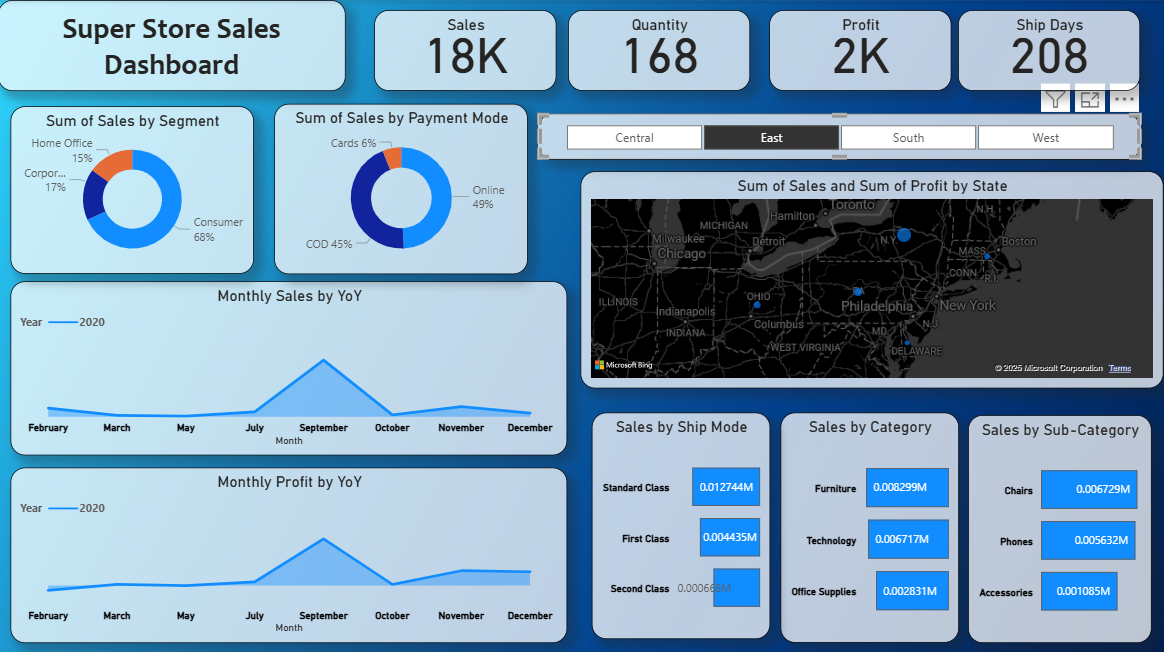

The dashboard page shown, as its layout file describes it:
{"tool":"powerbi","page":{"name":"Page 1","canvas":[1280,720],"ordinal":0},"visuals":[{"type":"clusteredBarChart","title":" Sales by Category","fields":{"Category":["Sheet1.Category"],"Y":["Sum(Sheet1.Sales)"]},"box":[858.6,452.9,195.7,252.9],"z":0},{"type":"clusteredBarChart","title":"Sales by Sub-Category","fields":{"Category":["Sheet1.Sub-Category","Sheet1.Category"],"Y":["Sum(Sheet1.Sales)"]},"box":[1064.3,455.7,201.4,250],"z":1000},{"type":"clusteredBarChart","title":"Sales by Ship Mode","fields":{"Category":["Sheet1.Ship Mode"],"Y":["Sum(Sheet1.Sales)"]},"box":[651.4,452.9,195.7,248.6],"z":2000},{"type":"stackedAreaChart","title":"Monthly Sales by YoY","fields":{"Y":["Sum(Sheet1.Sales)"],"Category":["Sheet1.Order Date.Variation.Date Hierarchy.Month","Sheet1.Order Date.Variation.Date Hierarchy.Day"],"Series":["Sheet1.Order Date.Variation.Date Hierarchy.Year"]},"box":[14.3,308.6,611.4,191.4],"z":3000},{"type":"stackedAreaChart","title":"Monthly Profit by YoY","fields":{"Category":["Sheet1.Order Date.Variation.Date Hierarchy.Month","Sheet1.Order Date.Variation.Date Hierarchy.Day"],"Series":["Sheet1.Order Date.Variation.Date Hierarchy.Year"],"Y":["Sum(Sheet1.Profit)"]},"box":[14.3,512.9,611.4,192.9],"z":4000},{"type":"map","fields":{"Category":["Sheet1.State"],"Size":["Sum(Sheet1.Sales)"]},"box":[640,188.6,640,238.6],"z":5000},{"type":"donutChart","fields":{"Category":["Sheet1.Segment"],"Y":["Sum(Sheet1.Sales)"]},"box":[14.3,117.1,267.1,184.3],"z":6000},{"type":"donutChart","fields":{"Category":["Sheet1.Payment Mode"],"Y":["Sum(Sheet1.Sales)"]},"box":[302.9,114.3,278.6,187.1],"z":7000},{"type":"slicer","fields":{"Values":["Sheet1.Region"]},"box":[592.9,124.3,661.4,50],"z":8000},{"type":"textbox","box":[0,0,381.4,100],"z":9000},{"type":"card","title":"Sales","fields":{"Values":["Sum(Sheet1.Sales)"]},"box":[412.9,11.4,200,88.6],"z":10000},{"type":"card","title":"Quantity","fields":{"Values":["Sum(Sheet1.Quantity)"]},"box":[625.7,11.4,200,88.6],"z":11000},{"type":"card","title":"Profit","fields":{"Values":["Sum(Sheet1.Profit)"]},"box":[847.1,11.4,200,88.6],"z":12000},{"type":"card","title":"Ship Days","fields":{"Values":["Sum(Sheet1.Avgdelivery)"]},"box":[1054.3,11.4,200,88.6],"z":13000}]}

Visuals, with their boxes in screenshot pixels (x1, y1, x2, y2), scaled from the page's 1280x720 canvas onto the 1164x652 screenshot:
" Sales by Category" clusteredBarChart: Rect(781, 410, 959, 639)
"Sales by Sub-Category" clusteredBarChart: Rect(968, 413, 1151, 639)
"Sales by Ship Mode" clusteredBarChart: Rect(592, 410, 770, 635)
"Monthly Sales by YoY" stackedAreaChart: Rect(13, 279, 569, 453)
"Monthly Profit by YoY" stackedAreaChart: Rect(13, 464, 569, 639)
map - Sheet1.State x Sum(Sheet1.Sales): Rect(582, 171, 1163, 387)
donutChart - Sheet1.Segment x Sum(Sheet1.Sales): Rect(13, 106, 256, 273)
donutChart - Sheet1.Payment Mode x Sum(Sheet1.Sales): Rect(275, 104, 529, 273)
slicer - Sheet1.Region: Rect(539, 113, 1141, 158)
textbox: Rect(0, 0, 347, 91)
"Sales" card: Rect(375, 10, 557, 91)
"Quantity" card: Rect(569, 10, 751, 91)
"Profit" card: Rect(770, 10, 952, 91)
"Ship Days" card: Rect(959, 10, 1141, 91)
